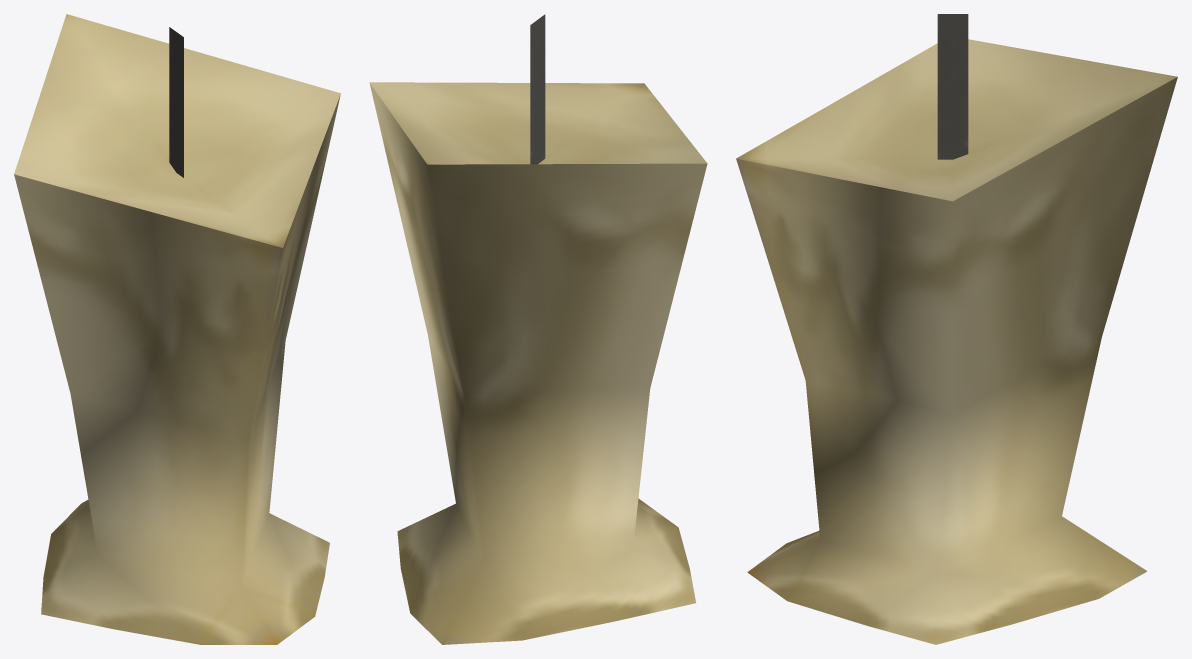
The model's file is sc_lazhu_005.FBX.
The picture shows the model from 3 angles, left to right: view 1: azimuth 30°, elevation 25°; view 2: azimuth 150°, elevation 25°; view 3: azimuth 270°, elevation 25°; orthographic projection. The views are drawn at different scales.
Visible parts, largest first — view 1: sc_lazhu_005; view 2: sc_lazhu_005; view 3: sc_lazhu_005.
Part boxes in pixels (x1=…): sc_lazhu_005: x1=14, y1=14, x2=340, y2=644; sc_lazhu_005: x1=369, y1=14, x2=707, y2=644; sc_lazhu_005: x1=736, y1=14, x2=1177, y2=644.
Size of the model in its own units: 0.2352 by 0.37 by 0.2655.
